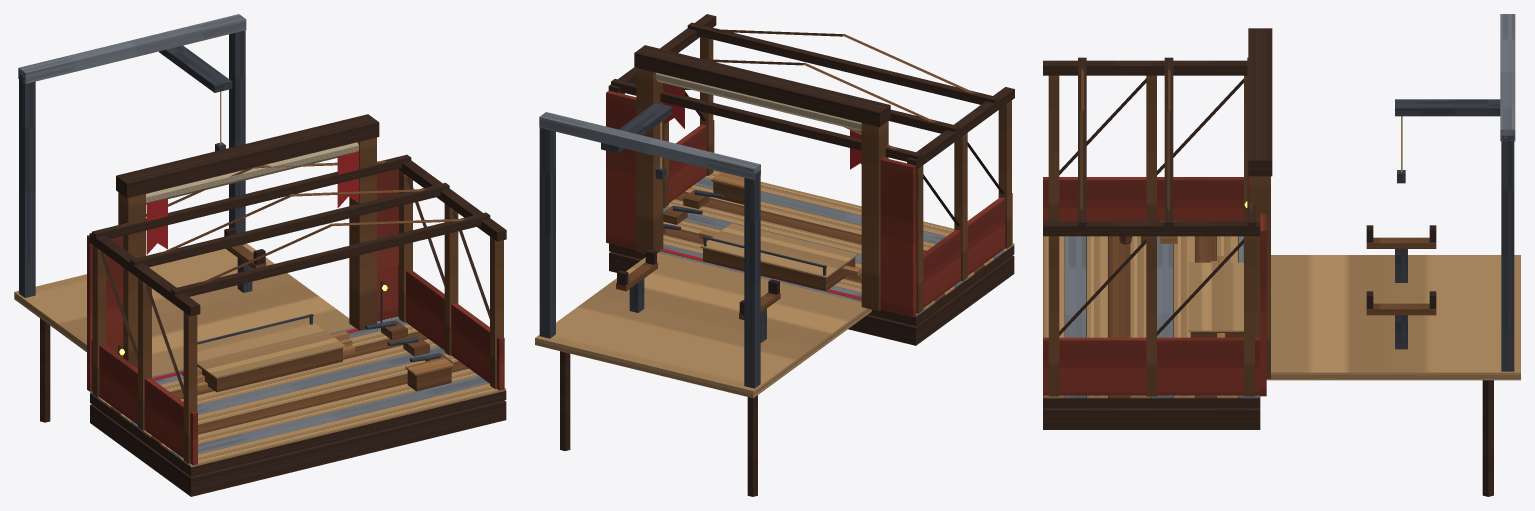
File: SM_Env_HangarHub_HQ.glb
3 renders of one model, left to right at view 1: azimuth 30°, elevation 25°; view 2: azimuth 150°, elevation 25°; view 3: azimuth 270°, elevation 25°, orthographic. The views are drawn at different scales.
Parts seen in each view (by area): view 1: SM_Env_HangarHub_HQ; view 2: SM_Env_HangarHub_HQ; view 3: SM_Env_HangarHub_HQ.
Boxes of the visible parts, x1,y1,x2,y2 form: SM_Env_HangarHub_HQ: (14, 14, 506, 496); SM_Env_HangarHub_HQ: (535, 14, 1014, 496); SM_Env_HangarHub_HQ: (1043, 14, 1520, 496).
Bounding box in the file's own units: 18.05 × 18.9 × 22.
1 material, 1 textured.
